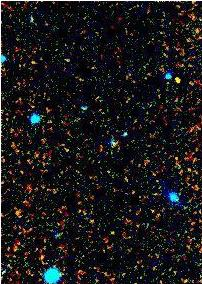star: (163, 64, 193, 94)
